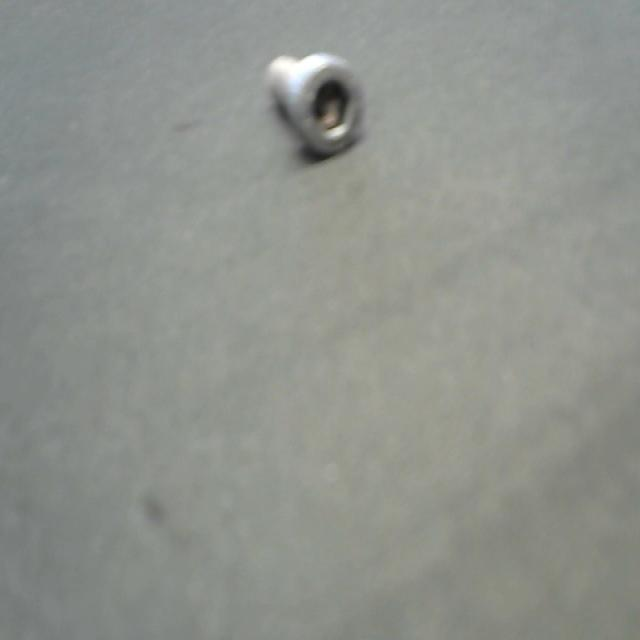SocketHeadCapScrew: (264, 46, 369, 160)
